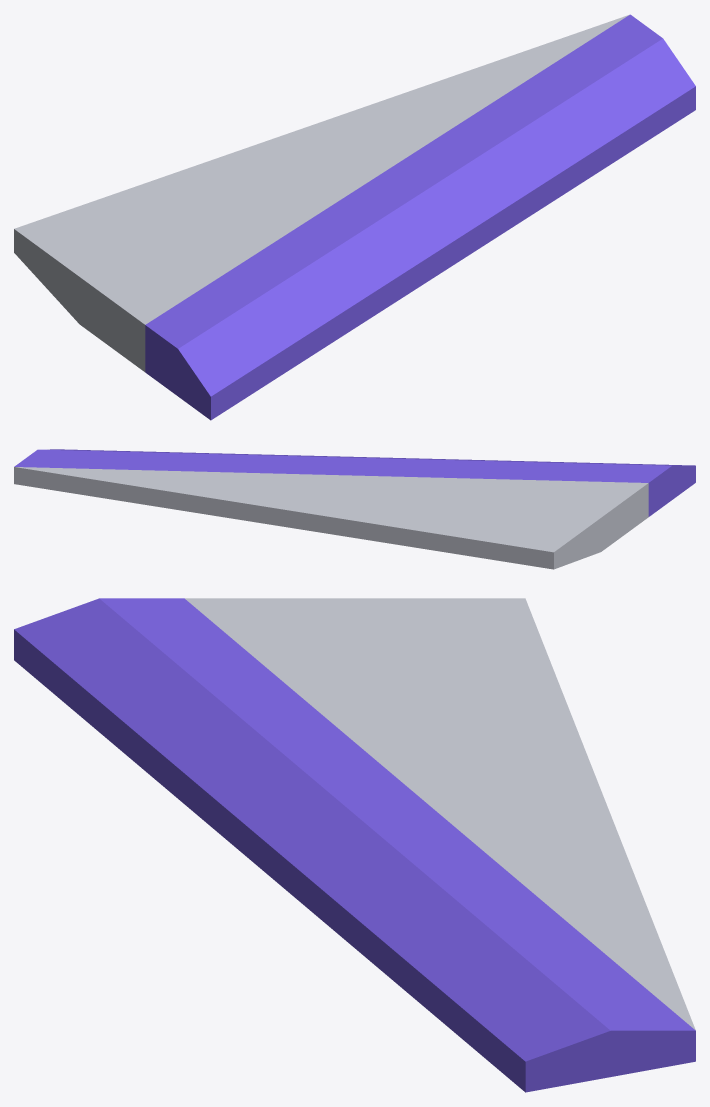
The model's file is Wing_6.fbx.
3 renders of one model, top to bottom at view 1: azimuth 30°, elevation 25°; view 2: azimuth 150°, elevation 25°; view 3: azimuth 270°, elevation 25°, orthographic. The views are drawn at different scales.
Visible parts, largest first — view 1: wing_longSlant; view 2: wing_longSlant; view 3: wing_longSlant.
Part boxes in pixels (x1,y1,x2,y2): wing_longSlant: [14, 14, 695, 420]; wing_longSlant: [14, 449, 695, 569]; wing_longSlant: [14, 598, 695, 1092].
Bounding box in the file's own units: 30 × 2 × 20.
